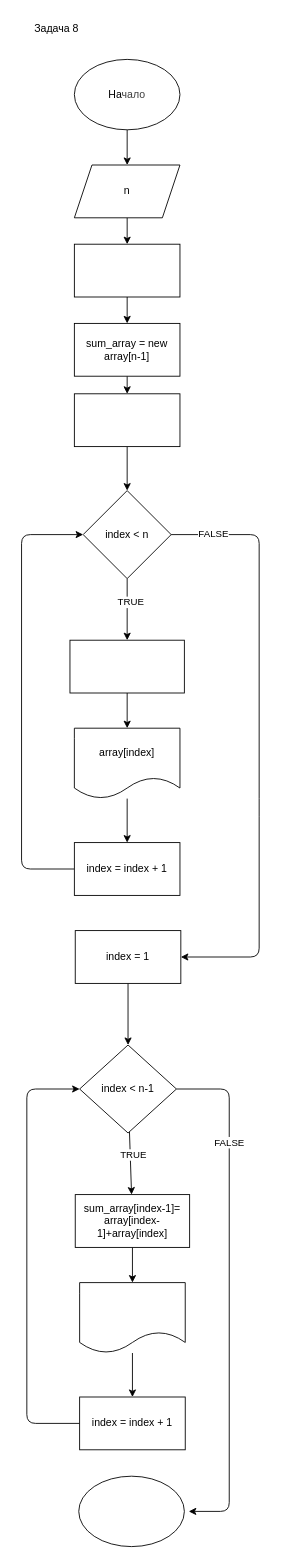
Image size: 282x1562. Some labels were removed from this diagram. Each missing label, with the box of its shape:
array = new array[n]: (73, 243, 180, 297)
array[index]= random(-10, 10): (69, 639, 184, 693)
index = 0: (73, 393, 180, 447)
sum_array[index]: (79, 1282, 185, 1353)
Конец: (78, 1475, 184, 1547)
